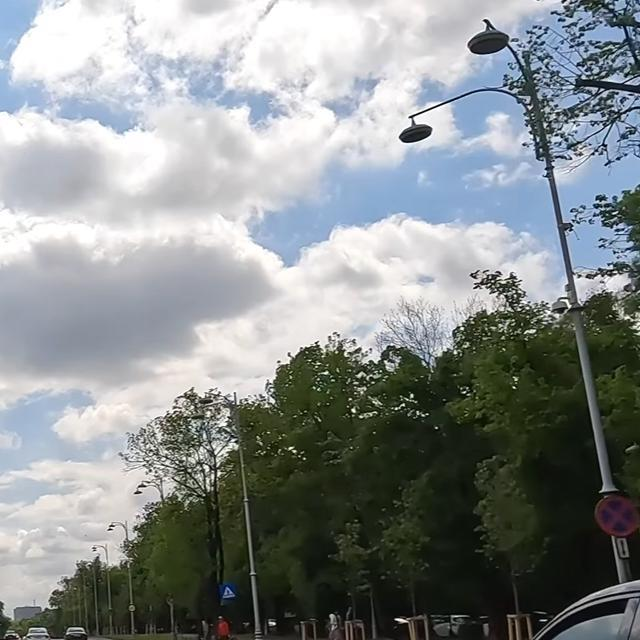forb_waiting: (594, 492, 639, 536)
